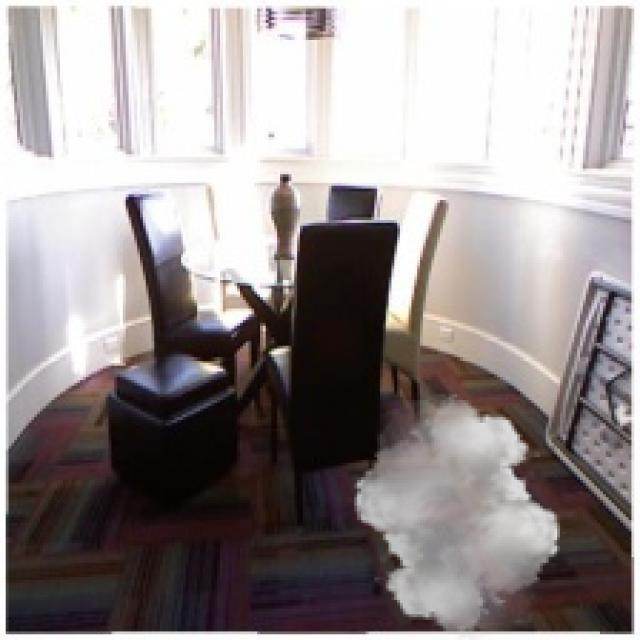smoke: (346, 394, 571, 637)
